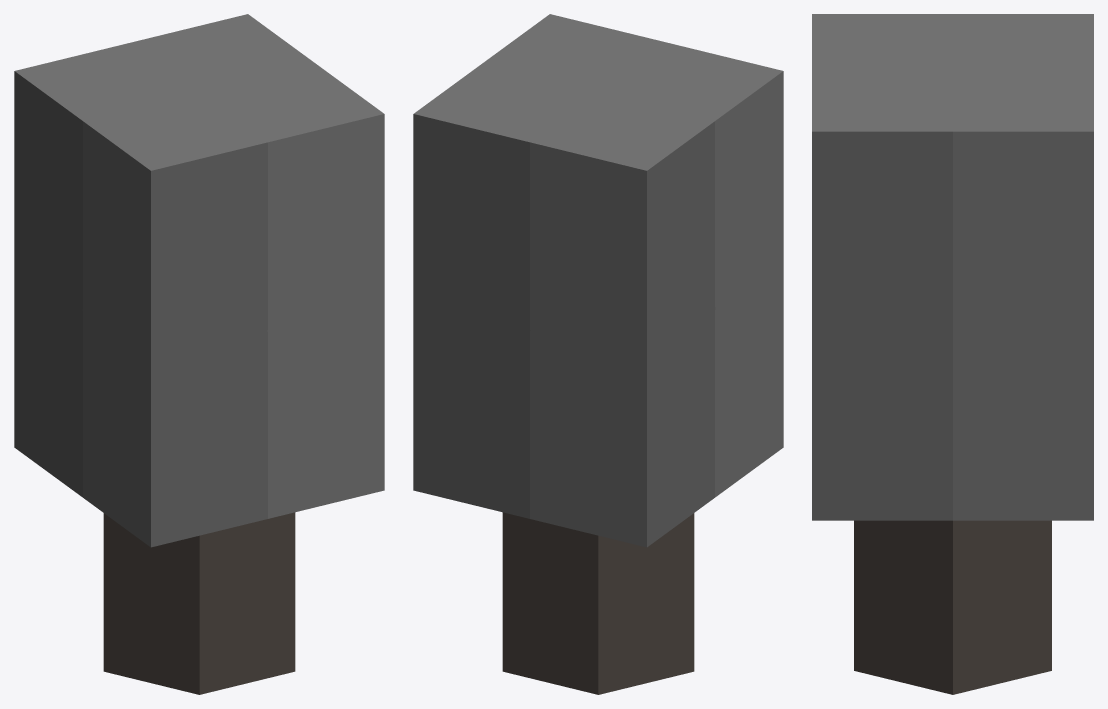
File: freza_attachment.obj
The picture shows the model from 3 angles, left to right: view 1: azimuth 30°, elevation 25°; view 2: azimuth 150°, elevation 25°; view 3: azimuth 270°, elevation 25°; orthographic projection. The views are drawn at different scales.
Parts seen in each view (by area): view 1: Куб.012; view 2: Куб.012; view 3: Куб.012.
Boxes of the visible parts, x1,y1,x2,y2 form: Куб.012: (14, 14, 384, 694); Куб.012: (413, 14, 783, 694); Куб.012: (812, 14, 1093, 694).
Size of the model in its own units: 0.0938 by 0.2133 by 0.095.
